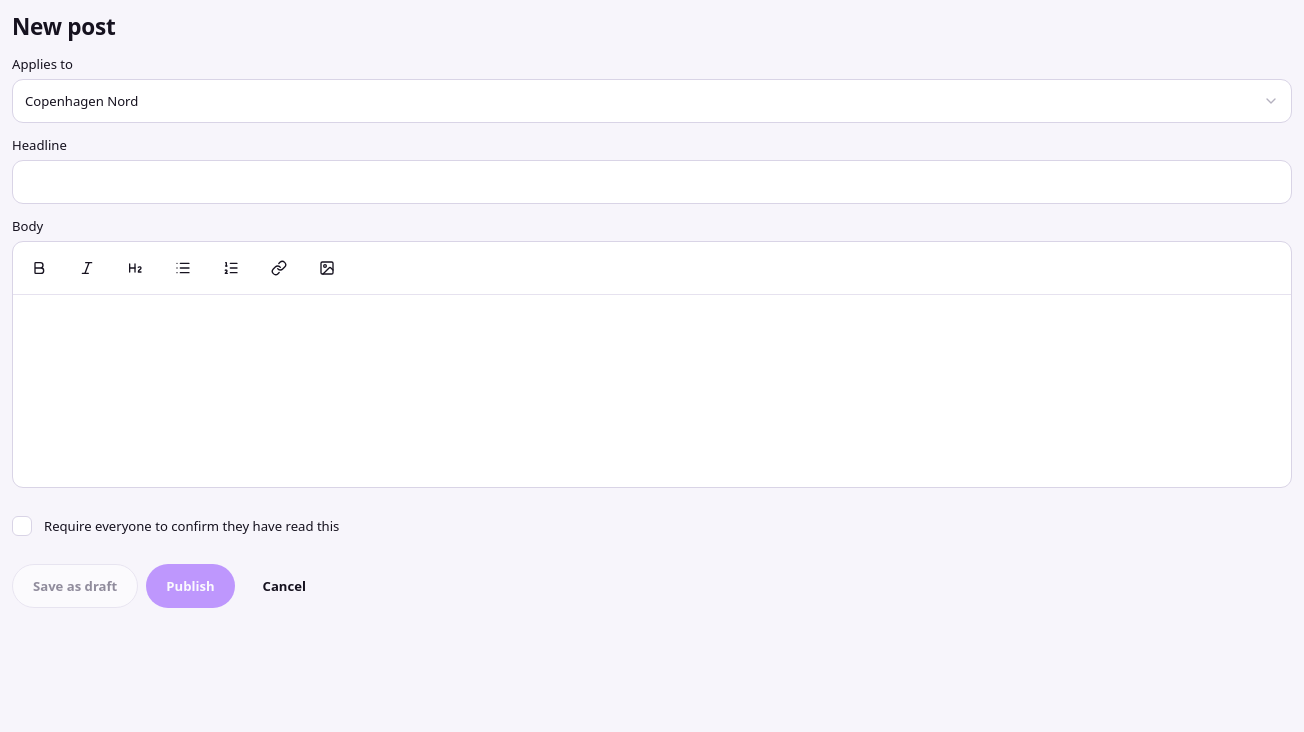
Test: PostEditorPage › refuses to save a post with no body, and says which part is missing
In the field labelled "Headline": (652, 182) [12, 160, 1292, 204], type "x"
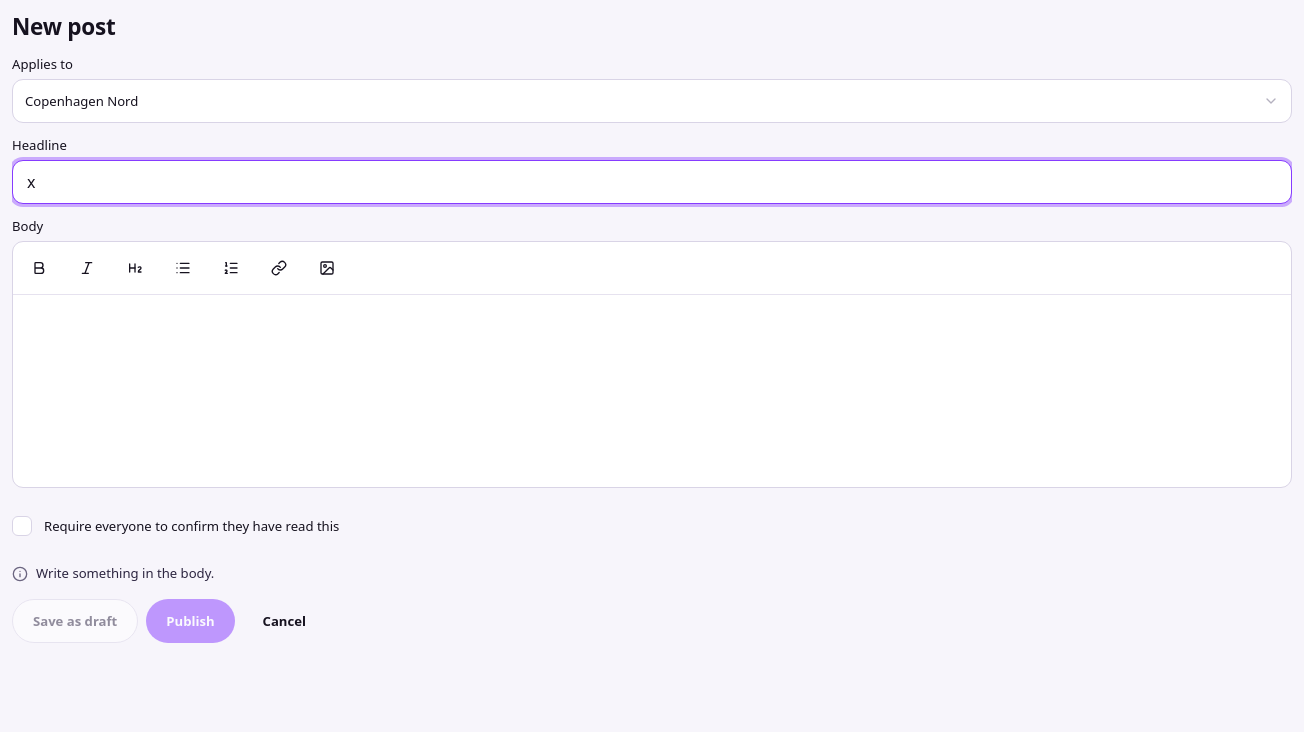
Clear the field labelled "Headline": (652, 182) [12, 160, 1292, 204]
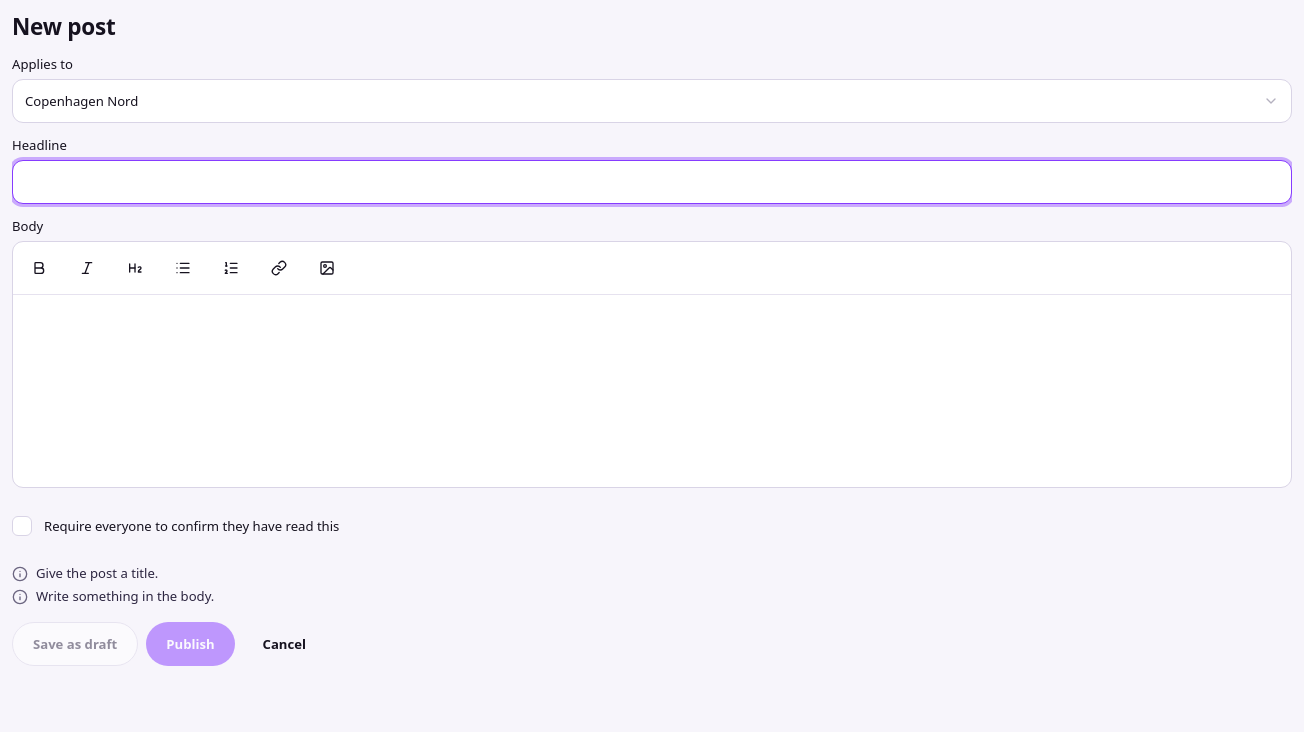
expect the list item "Give the post a title." is shown: met, box [12, 564, 158, 582]
In the field labelled "Headline": (652, 182) [12, 160, 1292, 204], type "Empty"
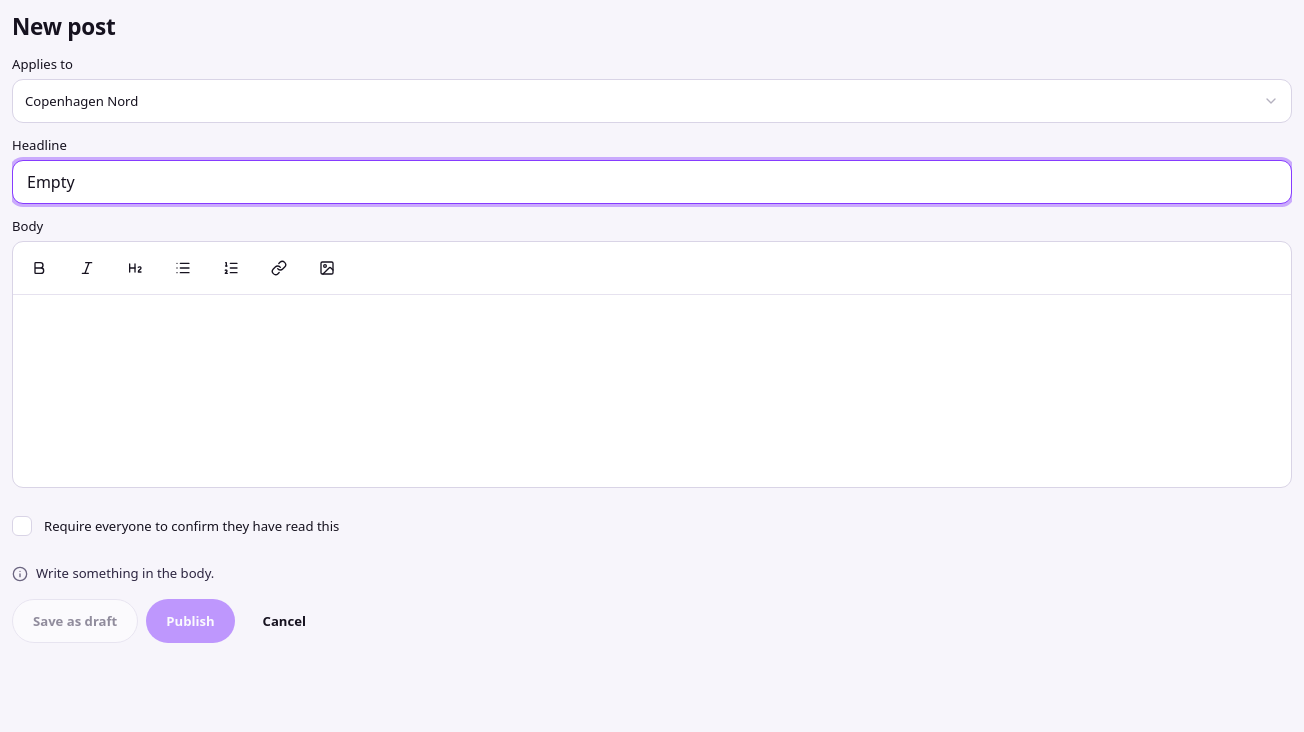
expect the button "Publish" is disabled: met, box [146, 599, 235, 643]
expect the list item "Write something in the body." is shown: met, box [12, 564, 214, 582]
expect the list item "Give the post a title." is gone: met
